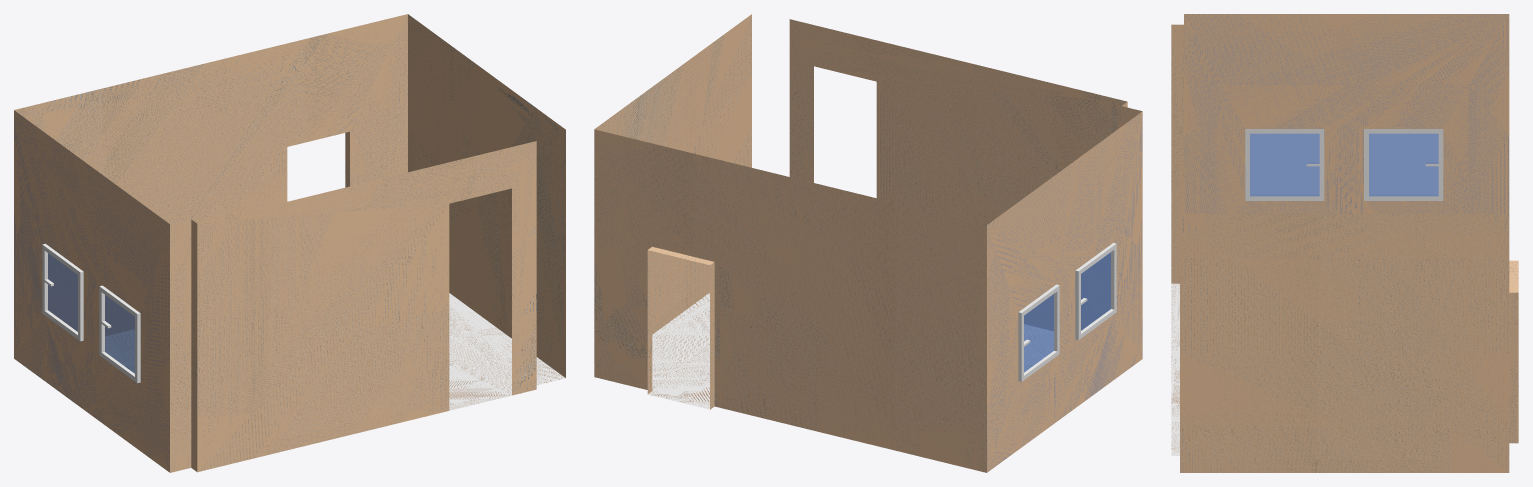
The model's file is AUL012.obj.
3 renders of one model, left to right at view 1: azimuth 30°, elevation 25°; view 2: azimuth 150°, elevation 25°; view 3: azimuth 270°, elevation 25°, orthographic. The views are drawn at different scales.
Parts seen in each view (by area): view 1: Mesh7 AUL012 Model, Mesh4 ventana3_2_2 AUL012 Model, Mesh1 ventana3_2_1 AUL012 Model; view 2: Mesh7 AUL012 Model, Mesh1 ventana3_2_1 AUL012 Model, Mesh4 ventana3_2_2 AUL012 Model; view 3: Mesh7 AUL012 Model, Mesh1 ventana3_2_1 AUL012 Model, Mesh4 ventana3_2_2 AUL012 Model.
Part boxes in pixels (x1,y1,x2,y2): Mesh7 AUL012 Model: (14, 14, 565, 472); Mesh4 ventana3_2_2 AUL012 Model: (99, 285, 140, 383); Mesh1 ventana3_2_1 AUL012 Model: (42, 243, 83, 341); Mesh7 AUL012 Model: (594, 14, 1142, 472); Mesh1 ventana3_2_1 AUL012 Model: (1018, 284, 1059, 381); Mesh4 ventana3_2_2 AUL012 Model: (1075, 243, 1116, 339); Mesh7 AUL012 Model: (1171, 14, 1518, 472); Mesh1 ventana3_2_1 AUL012 Model: (1364, 129, 1443, 200); Mesh4 ventana3_2_2 AUL012 Model: (1245, 129, 1324, 200).
Size of the model in its own units: 6.02 by 3.6 by 4.38.
Materials: 7 (2 with a texture image).
